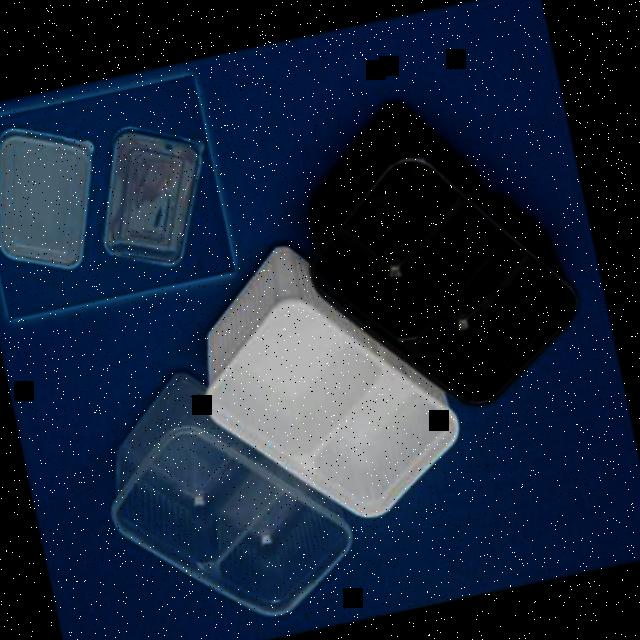plastic_box: (280, 67, 594, 433), (178, 217, 474, 547)
